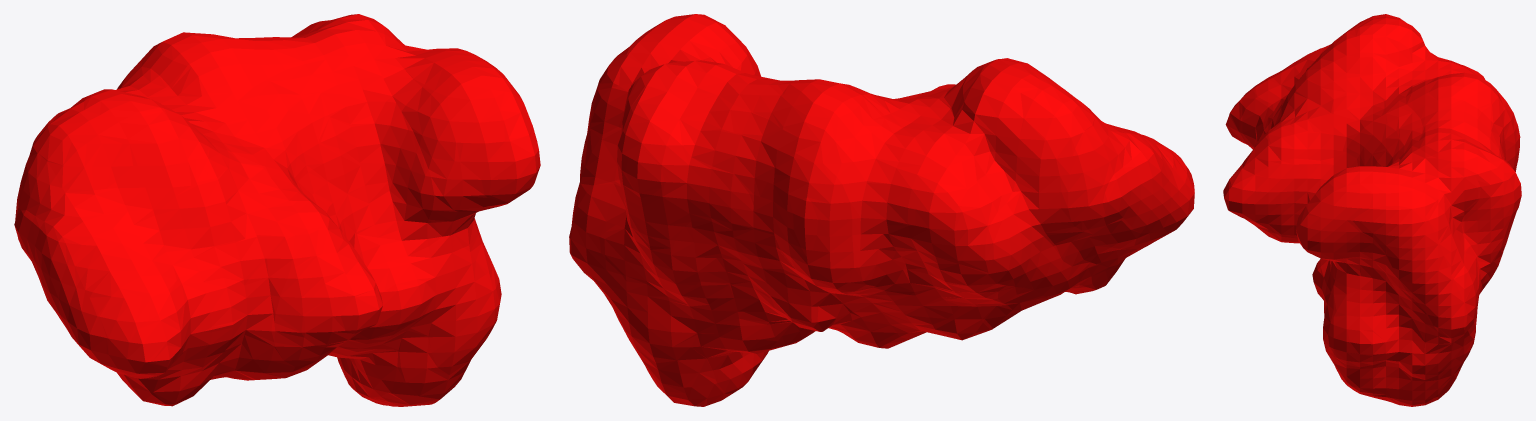
The model's file is mlaE_coarse.dae.
3 views of the same model, side by side, from view 1: azimuth 30°, elevation 25°; view 2: azimuth 150°, elevation 25°; view 3: azimuth 270°, elevation 25° (orthographic). The views are drawn at different scales.
Visible parts, largest first — view 1: mlaE; view 2: mlaE; view 3: mlaE.
Part boxes in pixels (<box>): mlaE: <box>14,14,540,406</box>; mlaE: <box>569,14,1194,406</box>; mlaE: <box>1223,14,1521,406</box>.
Size of the model in its own units: 66.41 by 48.47 by 46.88.
